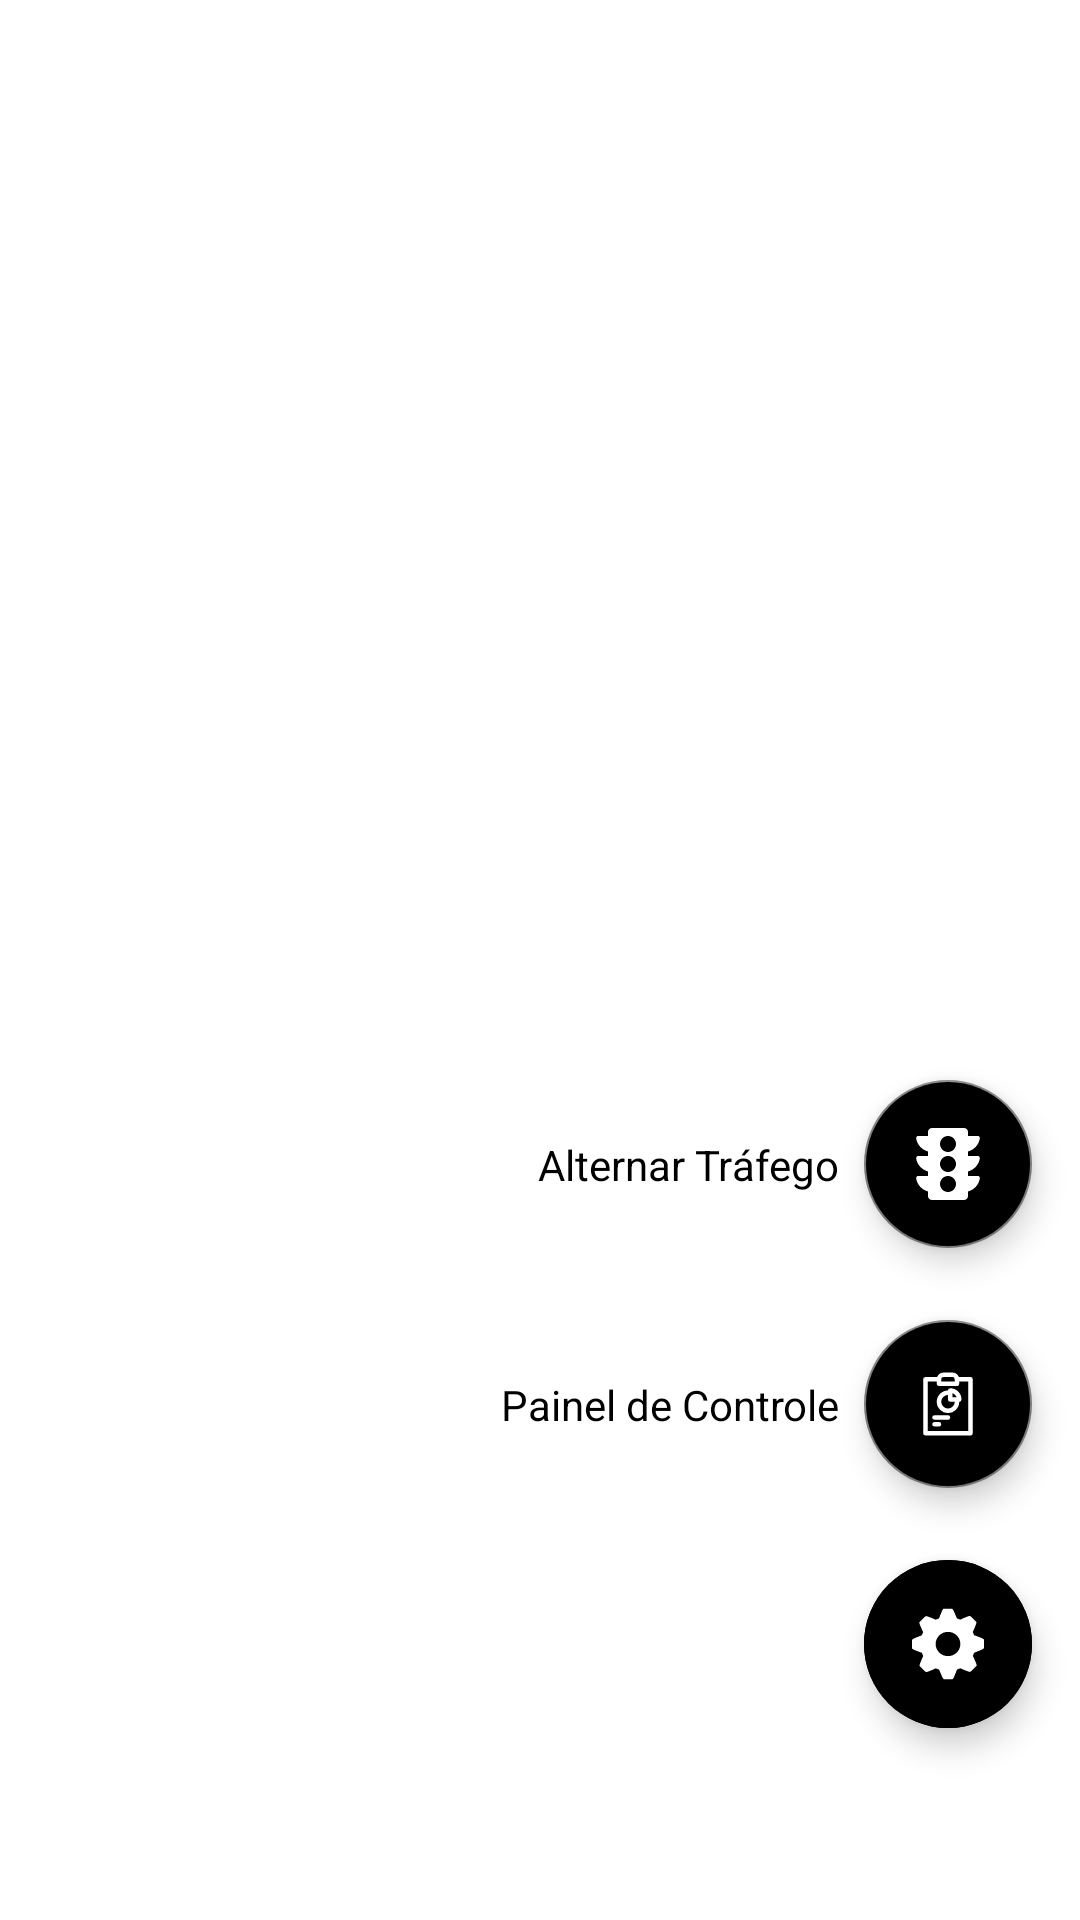

Screen size 1080w x 1920h. Icon name, then its box in pixels as (x1, y1, x2, y2):
dashboard: (864, 1320, 1032, 1488)
gear option: (864, 1560, 1032, 1728)
traffic: (864, 1080, 1032, 1248)
